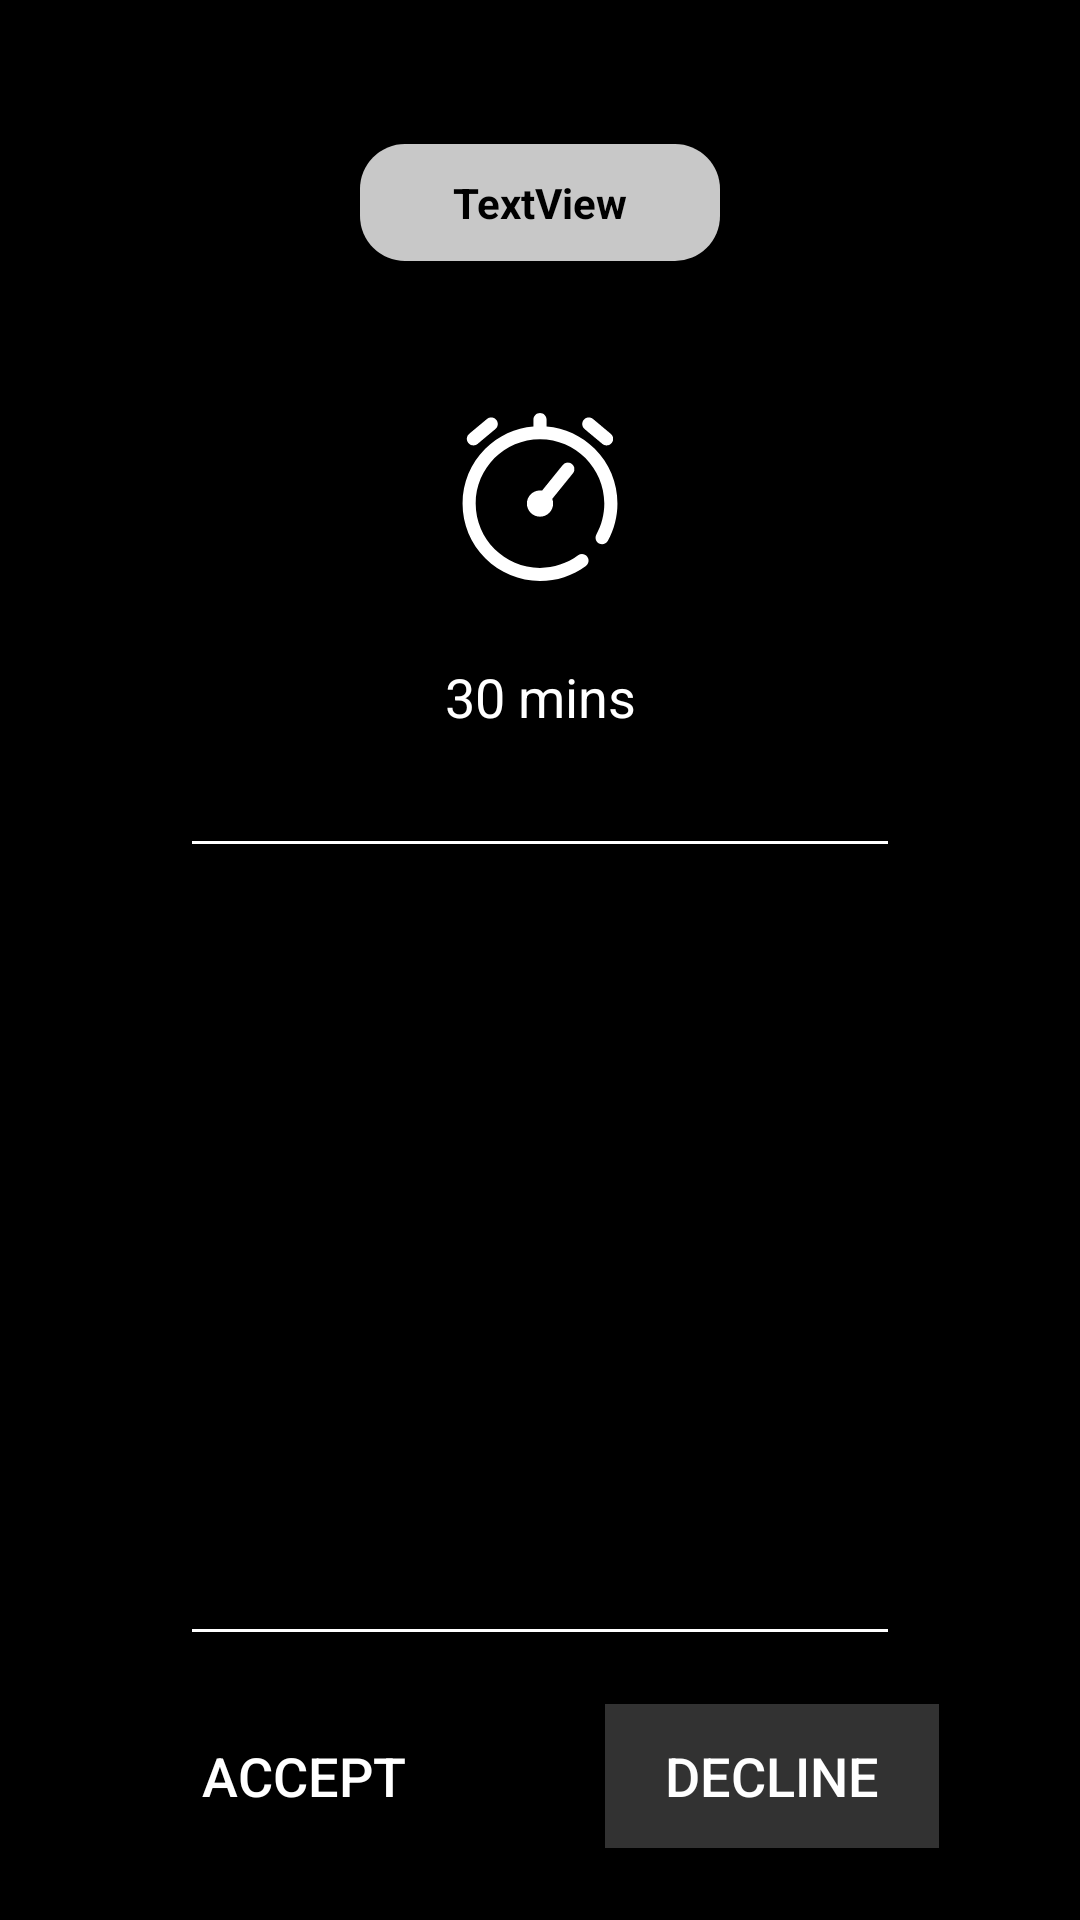

Icons on this 1080 x 1920 Android screen, each with its box as bbox=(x1, y1, x2, y2):
stopwatch: bbox=(462, 413, 618, 581)
